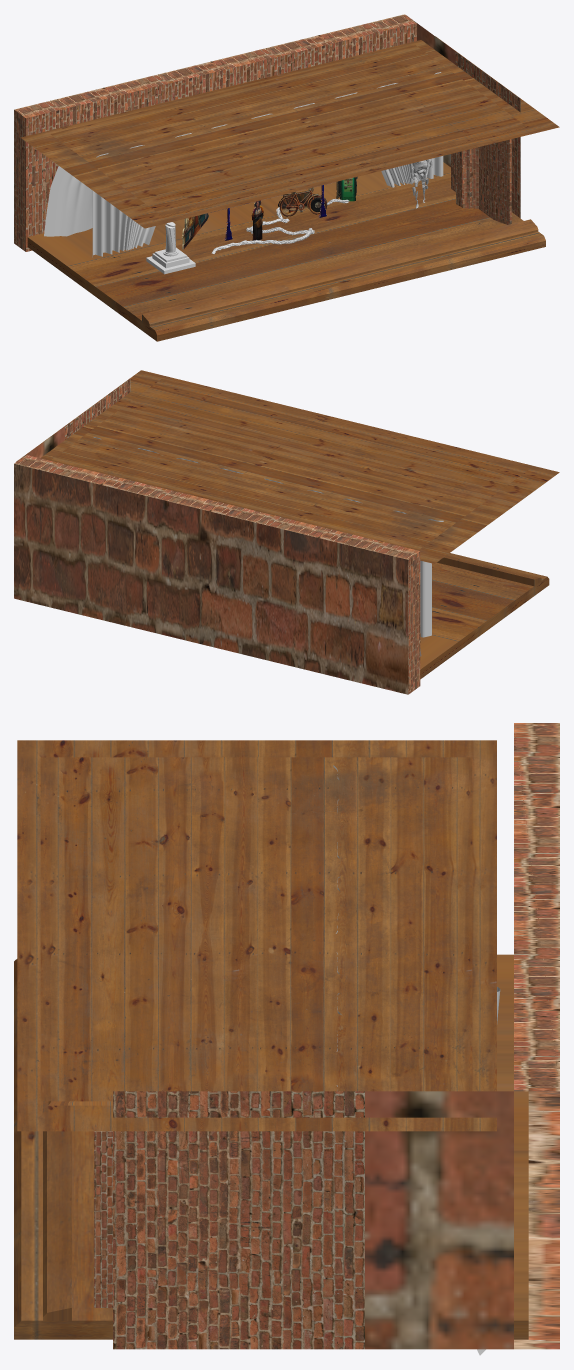
The model's file is Escenario 2.fbx.
3 views of the same model, one above another, from view 1: azimuth 30°, elevation 25°; view 2: azimuth 150°, elevation 25°; view 3: azimuth 270°, elevation 25° (orthographic). The views are drawn at different scales.
Visible parts, largest first — view 1: Estructura techo, Piso, Muro fondo, Muro, Telon fondo, Telon izquierdo, columna, Cuerda, Telon derecho, Byke, Alexa expo_cell.246, Tienda (+1 smaller); view 2: Muro fondo, Estructura techo, Piso, Telon izquierdo; view 3: Estructura techo, Muro fondo, Piso, Muro.
Part boxes in pixels (bbox=[...]): Estructura techo: bbox=[21, 36, 559, 228]; Piso: bbox=[27, 162, 545, 341]; Muro fondo: bbox=[14, 14, 520, 251]; Muro: bbox=[451, 139, 511, 224]; Telon fondo: bbox=[44, 166, 92, 236]; Telon izquierdo: bbox=[92, 191, 155, 257]; columna: bbox=[146, 222, 195, 274]; Cuerda: bbox=[211, 198, 349, 254]; Telon derecho: bbox=[381, 156, 443, 187]; Byke: bbox=[278, 187, 327, 216]; Alexa expo_cell.246: bbox=[410, 159, 432, 208]; Tienda: bbox=[181, 213, 208, 249]; Muro fondo: bbox=[14, 378, 420, 694]; Estructura techo: bbox=[16, 370, 559, 563]; Piso: bbox=[420, 553, 549, 679]; Telon izquierdo: bbox=[420, 560, 431, 637]; Estructura techo: bbox=[17, 740, 496, 1131]; Muro fondo: bbox=[113, 723, 559, 1349]; Piso: bbox=[14, 954, 528, 1339]; Muro: bbox=[94, 1131, 112, 1307].
Bounding box in the file's own units: 3011 × 1048 × 1777.
Materials: 23 (10 with a texture image).
